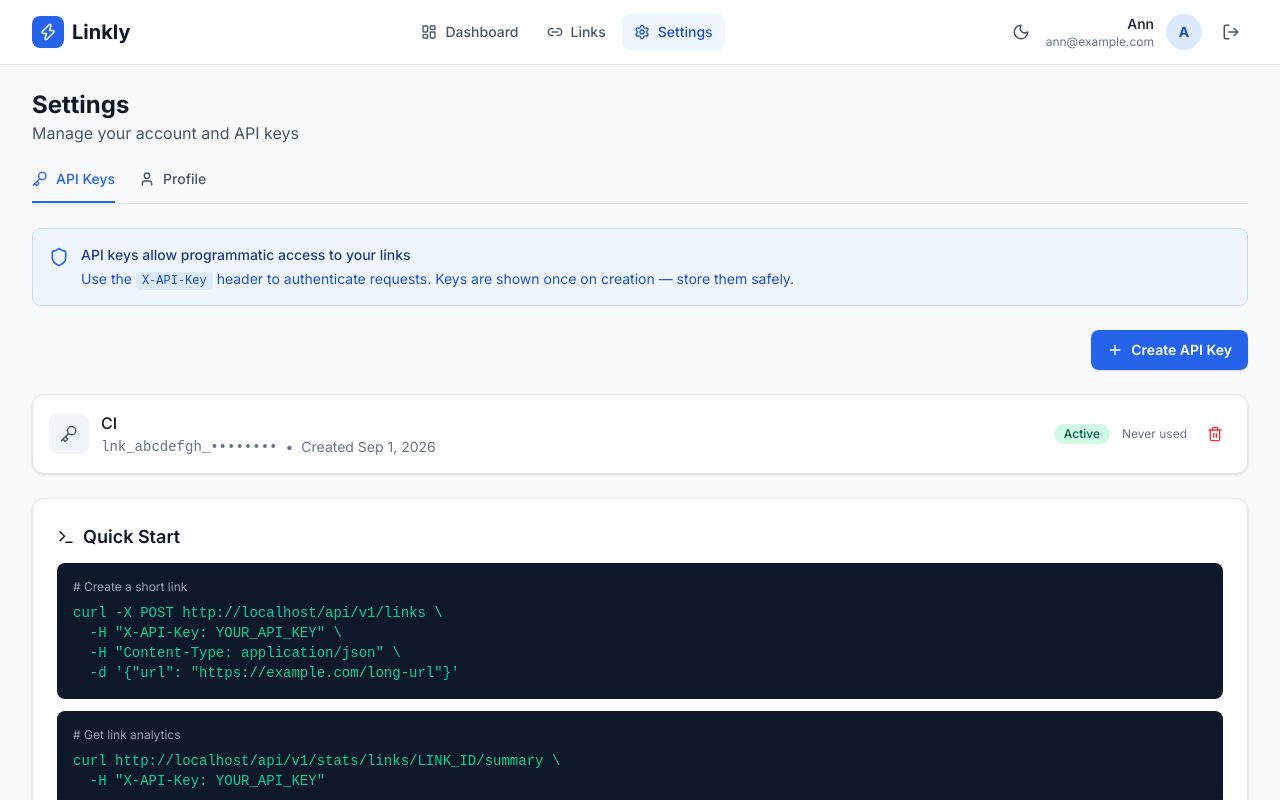
it: Settings › lists API keys and shows a new key once
This screenshot has width=1280, height=800.
Expected: the text "CI" is shown, [101,413,117,433]
Step 1. Click the button "Create API Key" → x=1170, y=350, box [1091,330,1248,370]
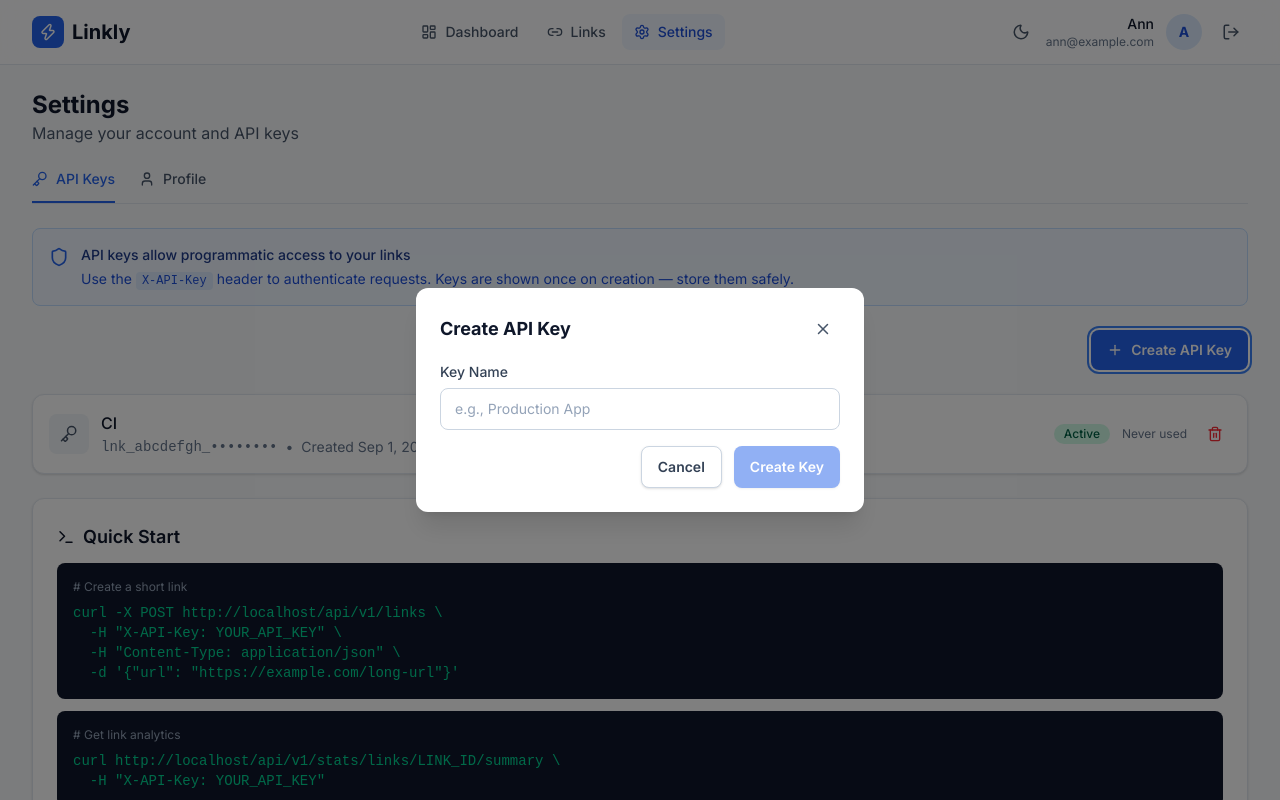
Step 2. Type "Deploy" into the field with placeholder "e.g., Production App" → x=640, y=409, box [440,388,840,430]
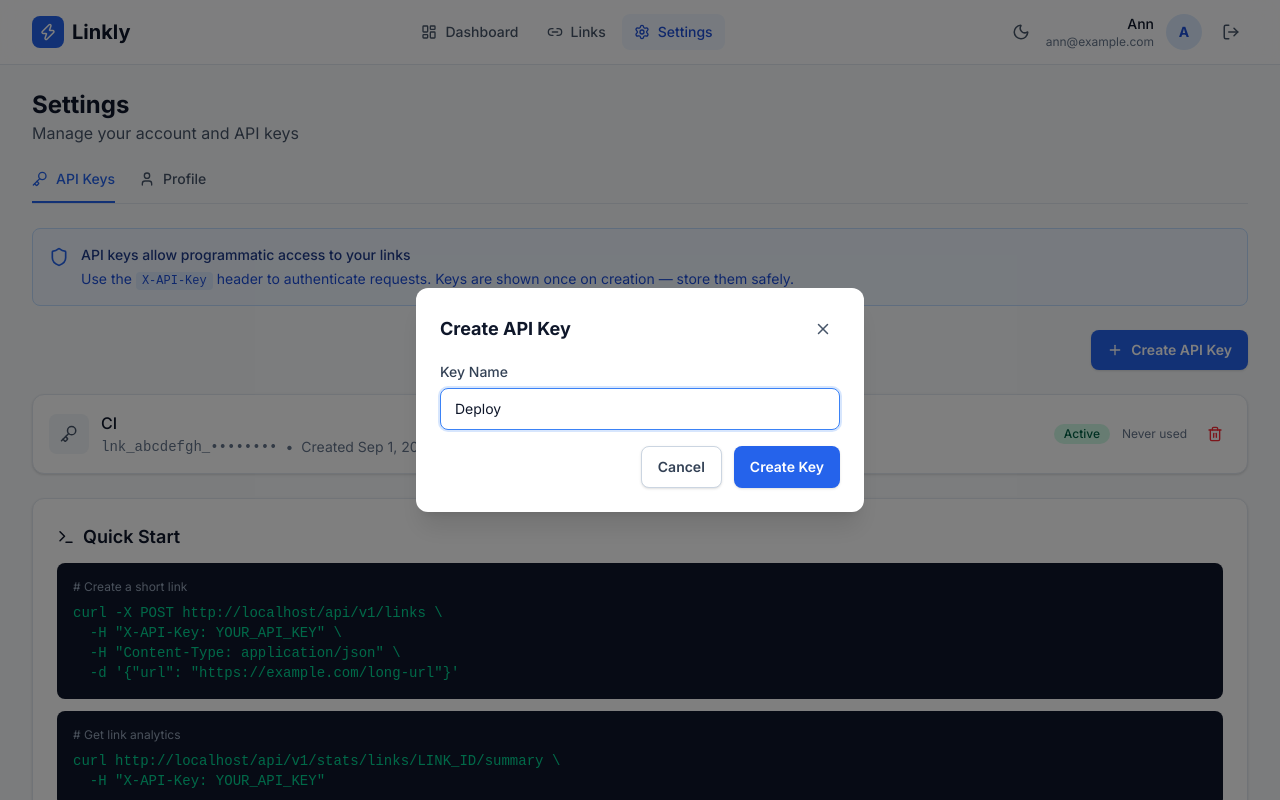
Step 3. Click the button "Create Key" → x=787, y=467, box [734,446,840,488]
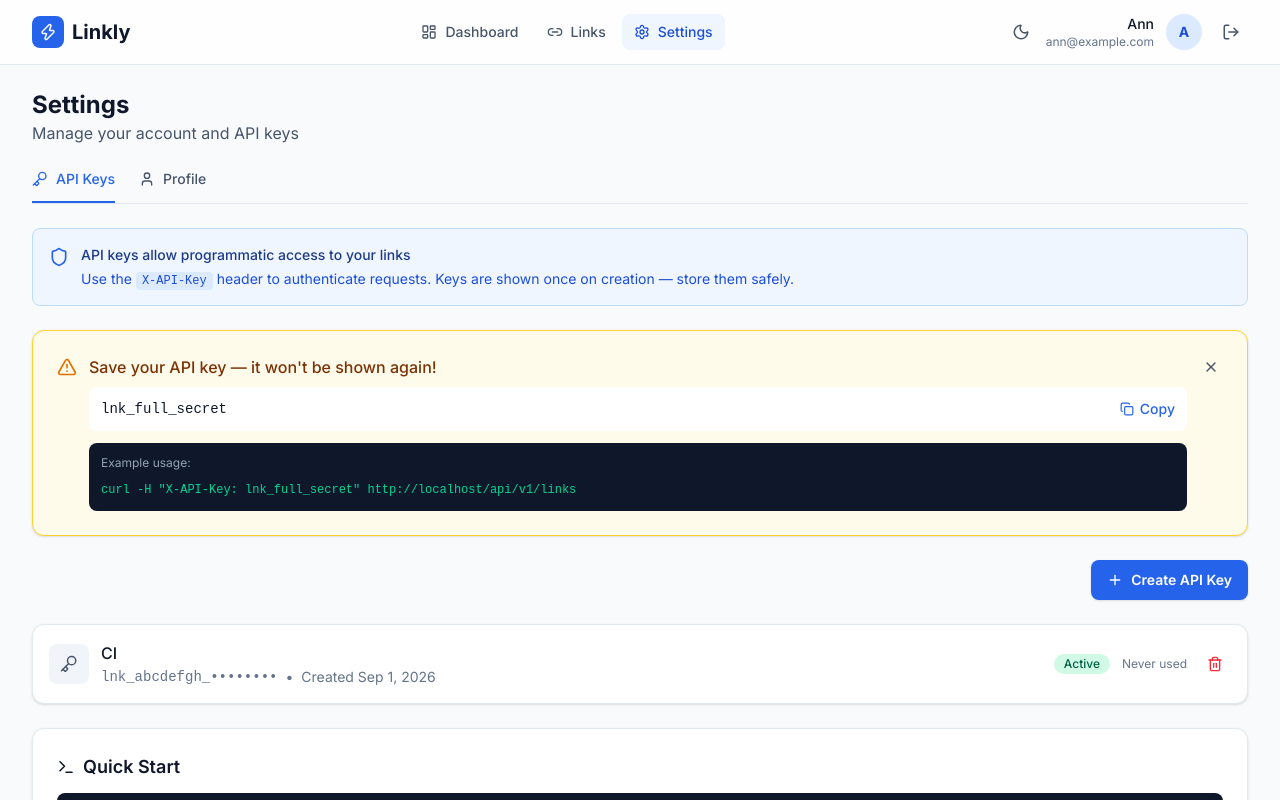
Expected: the text "lnk_full_secret" is shown, [101,401,227,417]
